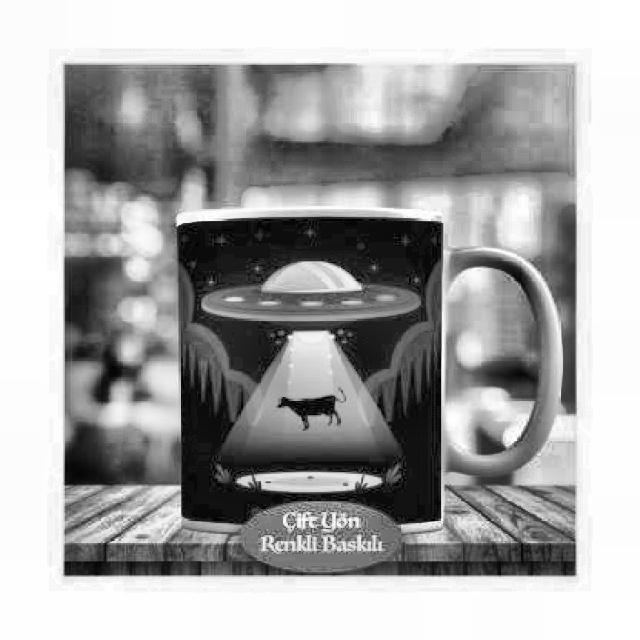Mug: (176, 208, 564, 542)
